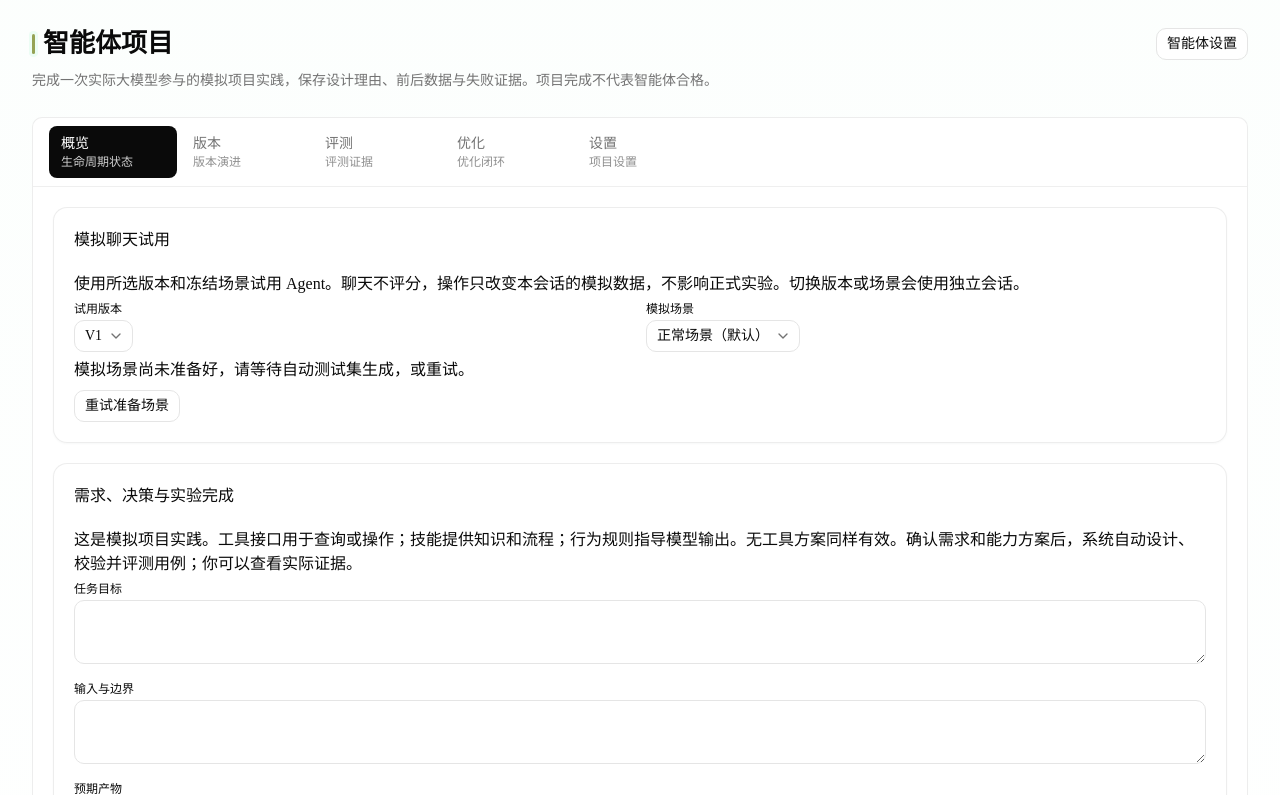
Test: shows the running lifecycle state
Click the button "评测 评测证据" at x=377, y=152, box [313,126,441,178]
(page scrolled)
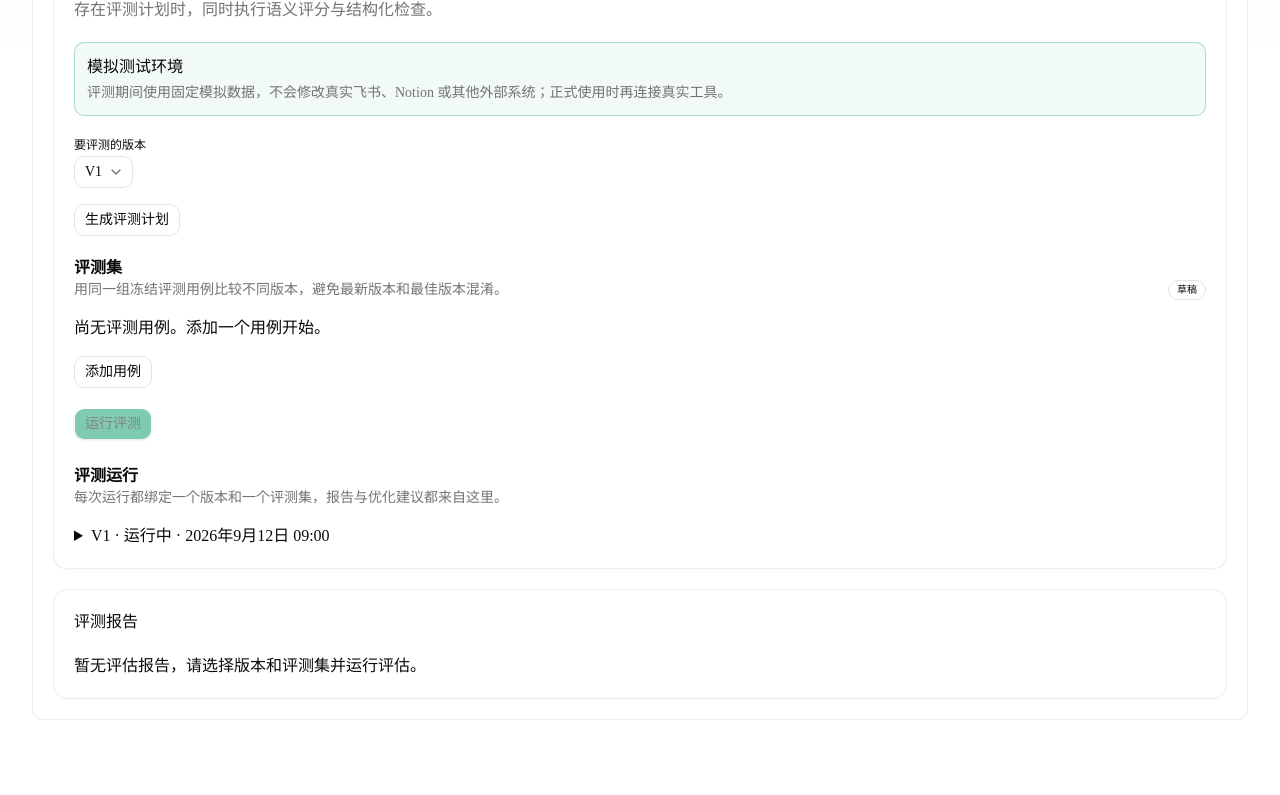
Click the heading "V1 · 运行中 · 2026年9月12日 09:00" at x=210, y=535, box [91,526,330,544]
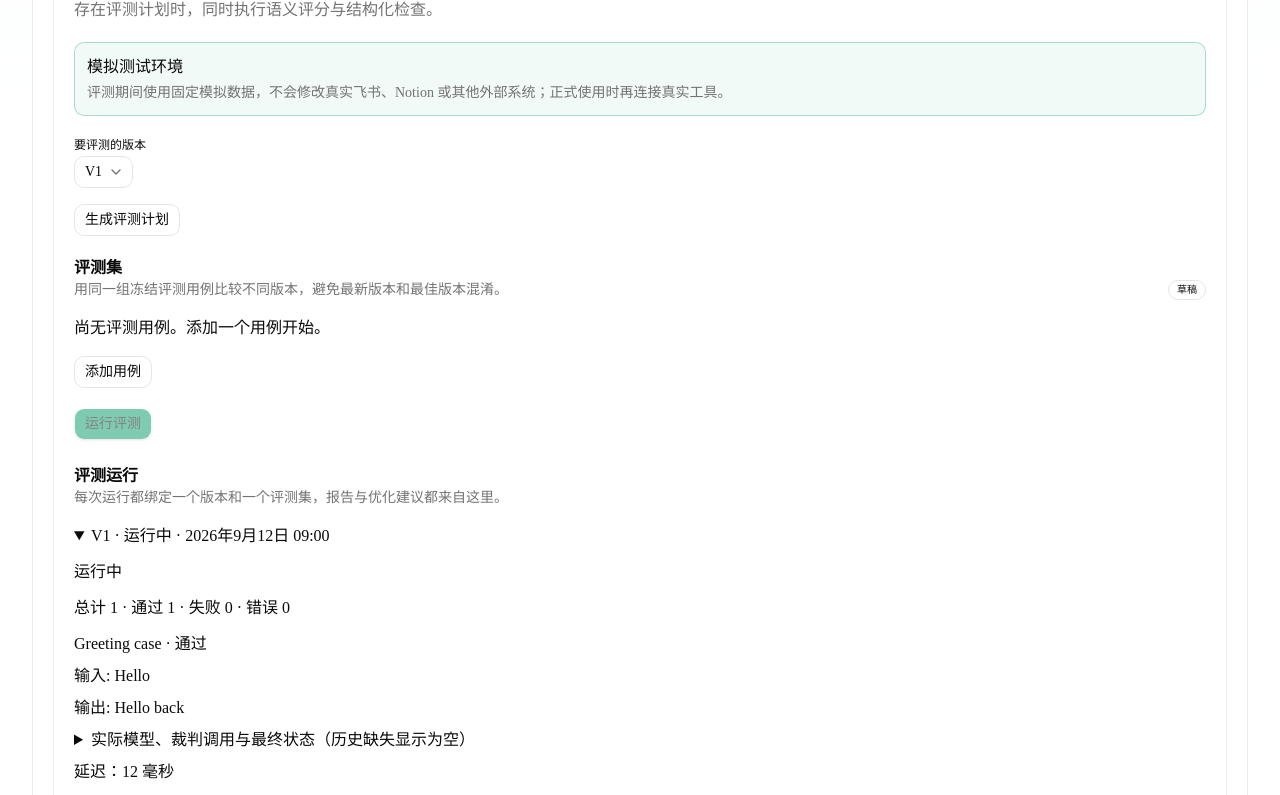
Expected: the text "运行中" is shown, [74,562,122,580]
